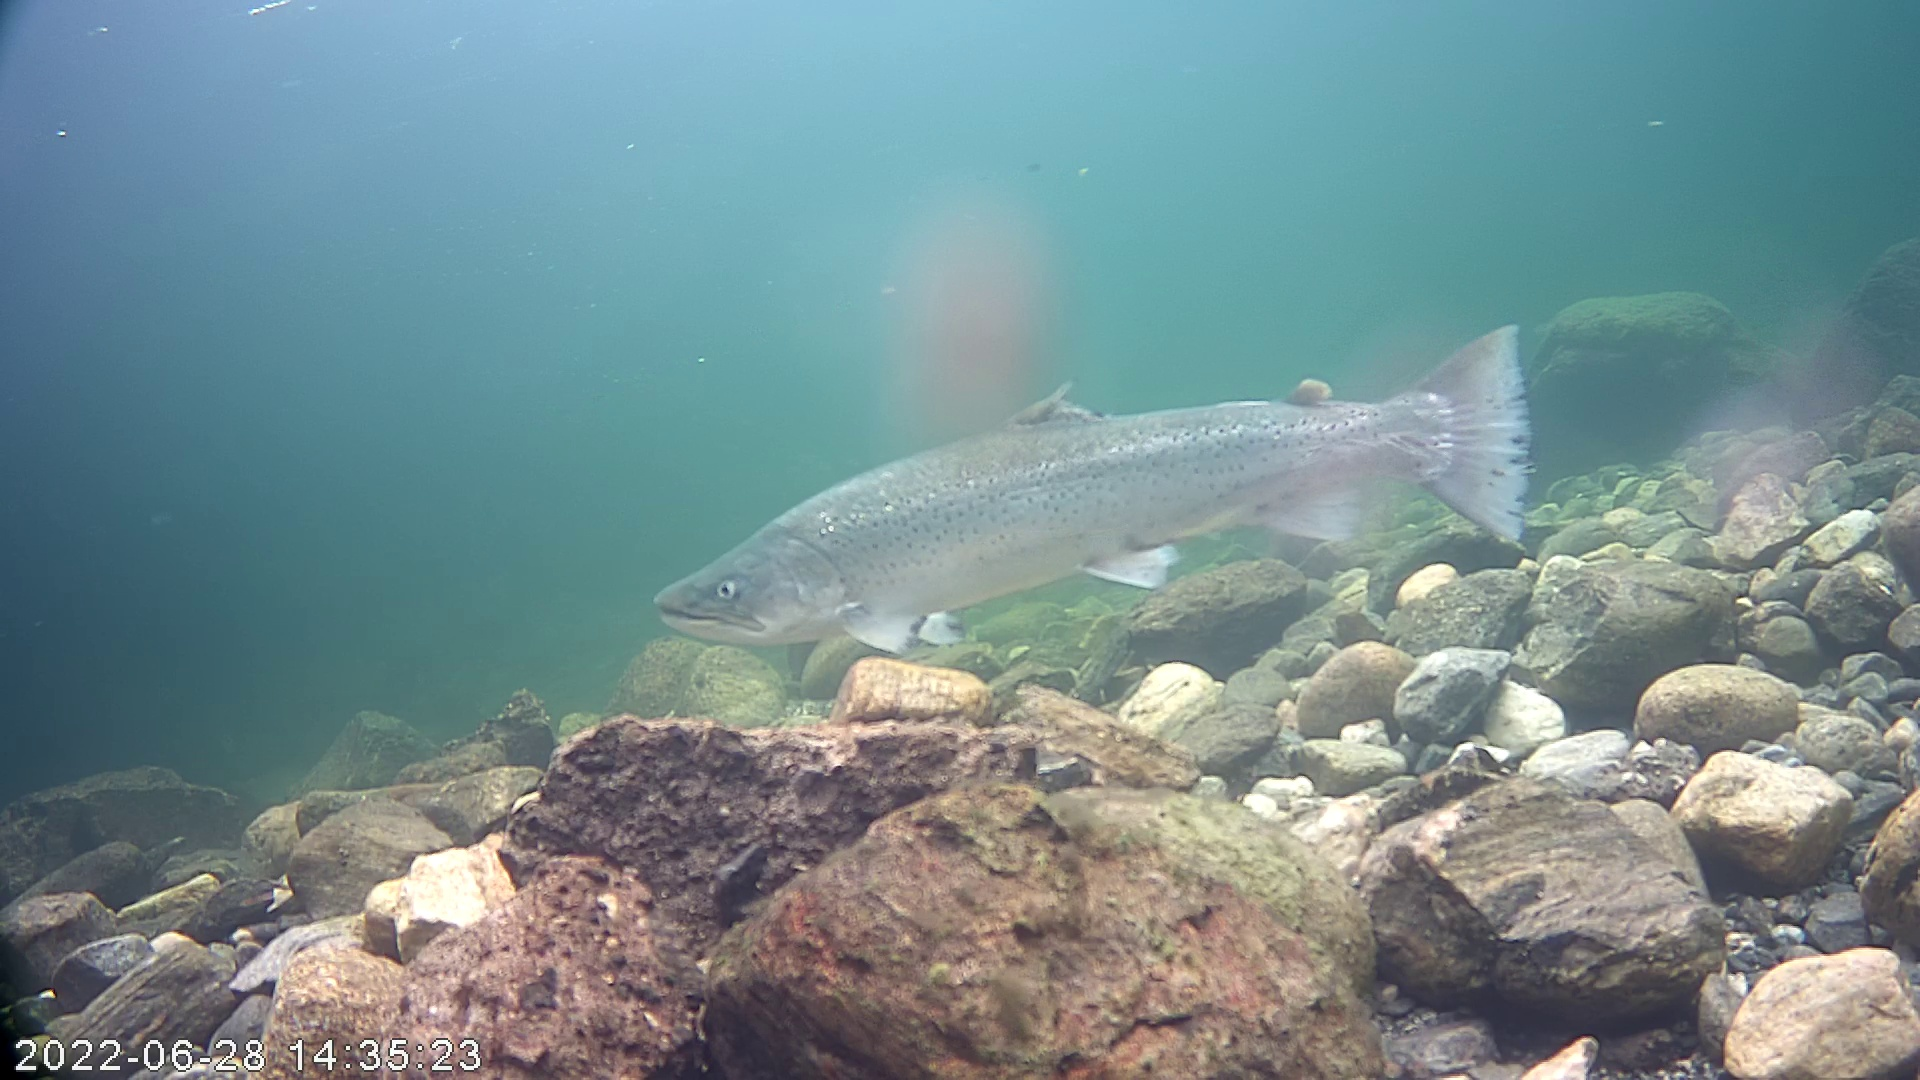salmon: (653, 255, 1565, 688)
